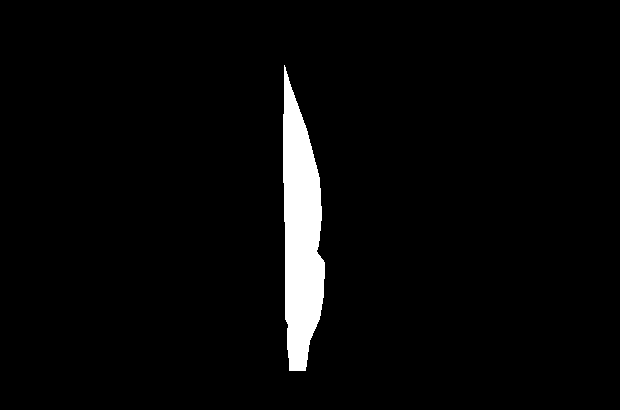type5: (279, 60, 329, 377)
